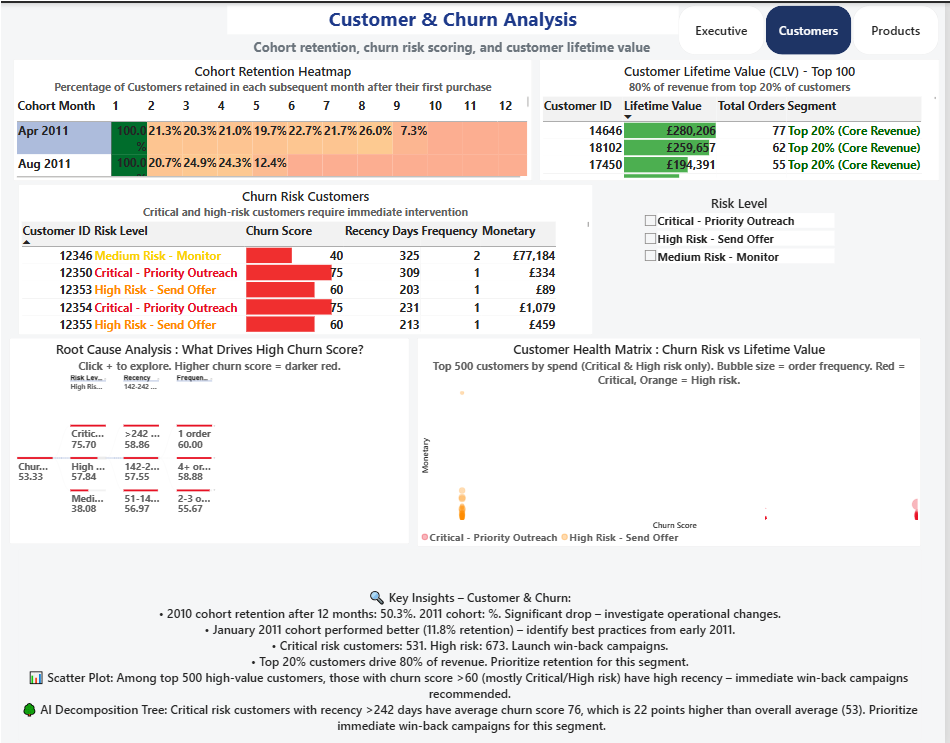

The dashboard page shown, as its layout file describes it:
{"tool":"powerbi","page":{"name":"Customers","canvas":[5222,4111],"ordinal":1},"visuals":[{"type":"textbox","box":[1248,17,2496,159],"z":0},{"type":"textbox","box":[1344,192,2304,107],"z":1000},{"type":"pivotTable","title":"Cohort Retention Heatmap ","fields":{"Columns":["vw_cohort_retention.month_offset"],"Values":["vw_cohort_retention.Retention Rate"],"Rows":["vw_cohort_retention.cohort_month_formatted"]},"box":[70,312,2866,672],"z":2000},{"type":"tableEx","title":"Customer Lifetime Value (CLV) - Top 100","fields":{"Values":["vw_clv_pareto.customerid","Sum(vw_clv_pareto.lifetime_value)","Sum(vw_clv_pareto.total_orders)","vw_clv_pareto.segment"]},"box":[2976,310,2208,672],"z":3000},{"type":"tableEx","title":"Churn Risk Customers","fields":{"Values":["vw_churn_risk.customerid","vw_churn_risk.risk_level","Sum(vw_churn_risk.churn_score)","Sum(vw_churn_risk.recency_days)","Sum(vw_churn_risk.frequency)","Sum(vw_churn_risk.monetary)"]},"box":[96,1000,3172,833],"z":4000},{"type":"slicer","title":"Risk Level","fields":{"Values":["vw_churn_risk.risk_level"]},"box":[3552,1056,1056,480],"z":5000},{"type":"card","fields":{"Values":["MeasuresTable.Page2 Insights"]},"box":[96,3020,4992,1056],"z":6000},{"type":"decompositionTreeVisual","title":"Root Cause Analysis : What Drives High Churn Score?","fields":{"Analyze":["Avg(vw_churn_risk.churn_score)"],"ExplainBy":["vw_churn_risk.risk_level","vw_churn_risk.Recency Group","vw_churn_risk.Frequency Group","vw_churn_risk.Return Group","vw_churn_risk.Monetary Group"]},"box":[50,1854,2208,1138],"z":7000},{"type":"pageNavigator","box":[3744,16,1440,272],"z":8000},{"type":"scatterChart","title":"Customer Health Matrix : Churn Risk vs Lifetime Value ","fields":{"Category":["vw_churn_risk.customerid"],"X":["Avg(vw_churn_risk.churn_score)"],"Y":["vw_churn_risk.monetary"],"Series":["vw_churn_risk.risk_level"],"Size":["Avg(vw_churn_risk.frequency)"]},"box":[2304,1853,2784,1152],"z":9000}]}

Visuals, with their boxes in screenshot pixels (x1, y1, x2, y2), scaled from the page's 5222x4111 canvas onto the 950x743 screenshot:
textbox: 227,3,681,32
textbox: 245,35,664,54
"Cohort Retention Heatmap " pivotTable: 13,56,534,178
"Customer Lifetime Value (CLV) - Top 100" tableEx: 541,56,943,177
"Churn Risk Customers" tableEx: 17,181,595,331
"Risk Level" slicer: 646,191,838,278
card - MeasuresTable.Page2 Insights: 17,546,926,737
"Root Cause Analysis : What Drives High Churn Score?" decompositionTreeVisual: 9,335,411,541
pageNavigator: 681,3,943,52
"Customer Health Matrix : Churn Risk vs Lifetime Value " scatterChart: 419,335,926,543
